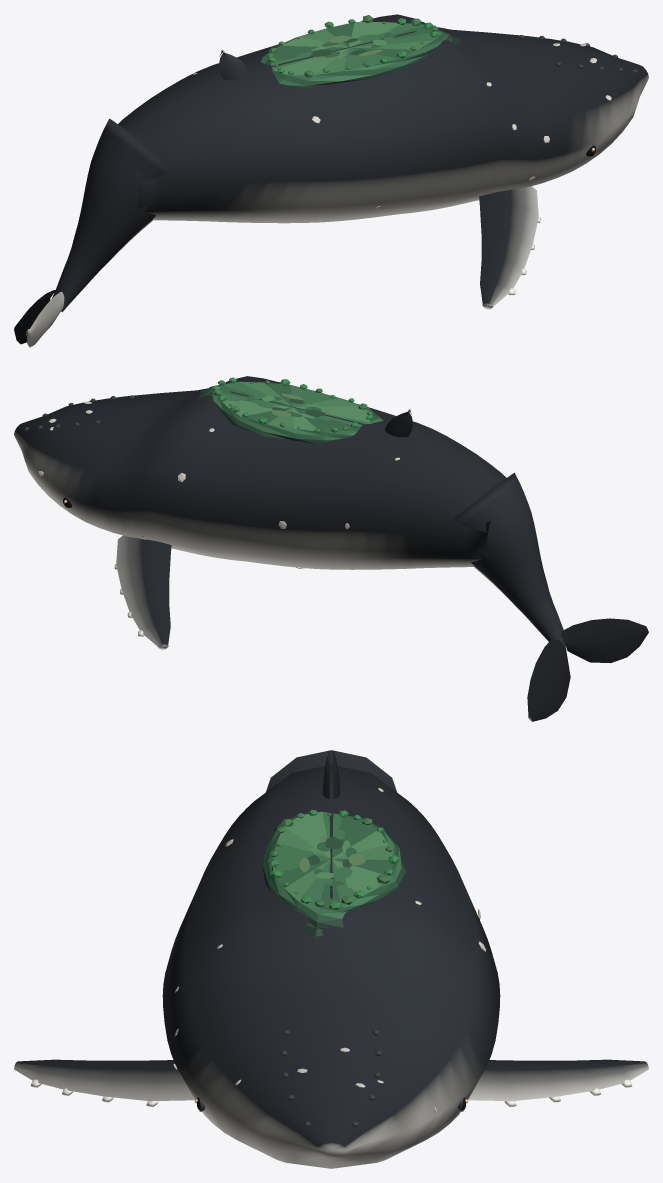
Rendered from leviathanIsland.glb.
3 views of the same model, one above another, from view 1: azimuth 30°, elevation 25°; view 2: azimuth 150°, elevation 25°; view 3: azimuth 270°, elevation 25° (orthographic). The views are drawn at different scales.
Parts seen in each view (by area): view 1: leviathan-body, leviathan-tail-stalk, leviathan-crust-plate, leviathan-pectoral-R, leviathan-fluke-R, leviathan-fluke-L, leviathan-dorsal; view 2: leviathan-body, leviathan-tail-stalk, leviathan-crust-plate, leviathan-pectoral-L, leviathan-fluke-R, leviathan-fluke-L, leviathan-dorsal; view 3: leviathan-body, leviathan-crust-plate, leviathan-pectoral-L, leviathan-pectoral-R, leviathan-tail-stalk.
Part boxes in pixels (bbox=[...]): leviathan-body: bbox=[118, 14, 648, 223]; leviathan-tail-stalk: bbox=[51, 118, 174, 312]; leviathan-crust-plate: bbox=[260, 22, 459, 88]; leviathan-pectoral-R: bbox=[479, 186, 538, 309]; leviathan-fluke-R: bbox=[25, 292, 64, 347]; leviathan-fluke-L: bbox=[14, 290, 55, 344]; leviathan-dorsal: bbox=[218, 50, 248, 80]; leviathan-body: bbox=[14, 376, 506, 569]; leviathan-tail-stalk: bbox=[454, 472, 565, 646]; leviathan-crust-plate: bbox=[198, 381, 383, 443]; leviathan-pectoral-L: bbox=[116, 535, 171, 649]; leviathan-fluke-R: bbox=[561, 618, 648, 663]; leviathan-fluke-L: bbox=[527, 639, 570, 721]; leviathan-dorsal: bbox=[385, 409, 412, 437]; leviathan-body: bbox=[162, 764, 500, 1168]; leviathan-crust-plate: bbox=[262, 811, 405, 936]; leviathan-pectoral-L: bbox=[468, 1059, 648, 1101]; leviathan-pectoral-R: bbox=[14, 1059, 194, 1101]; leviathan-tail-stalk: bbox=[266, 750, 396, 791].
Bounding box in the file's own units: 47.37 × 18.75 × 33.13.
